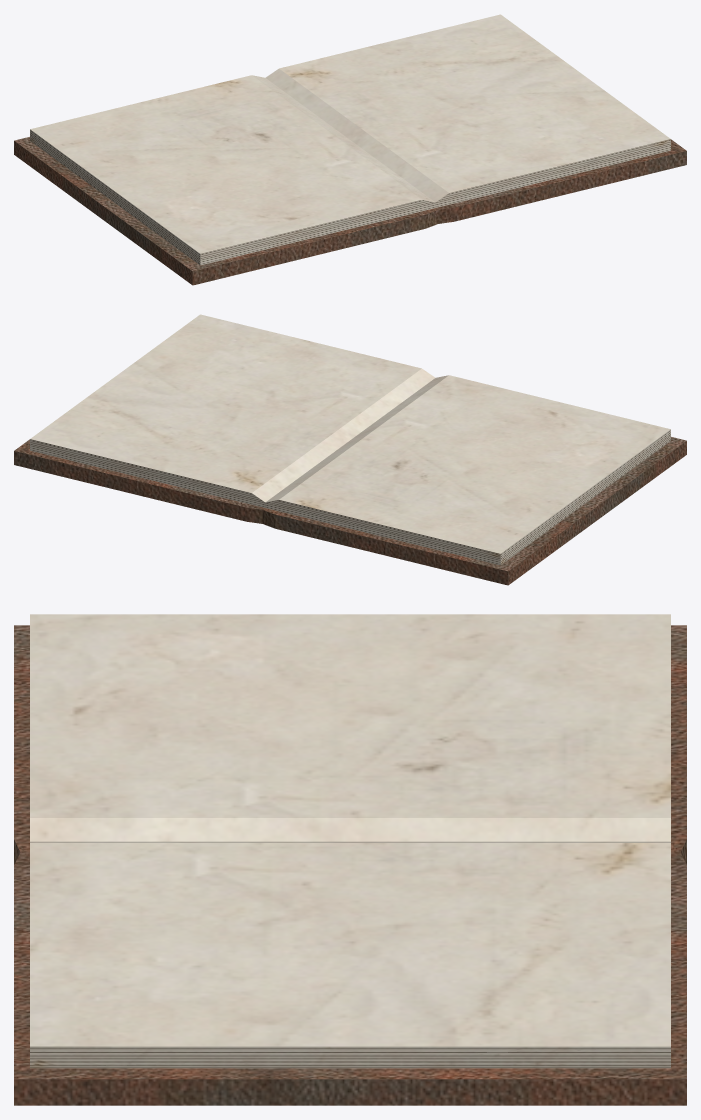
File: Book.fbx
The picture shows the model from 3 angles, top to bottom: view 1: azimuth 30°, elevation 25°; view 2: azimuth 150°, elevation 25°; view 3: azimuth 270°, elevation 25°; orthographic projection. The views are drawn at different scales.
Visible parts, largest first — view 1: Cube; view 2: Cube; view 3: Cube.
Boxes of the visible parts, x1=… form: Cube: x1=14, y1=14, x2=686, y2=285; Cube: x1=14, y1=314, x2=686, y2=585; Cube: x1=14, y1=614, x2=686, y2=1105.
Bounding box in the file's own units: 61.8 × 3.07 × 38.72.
2 materials, 2 textured.
